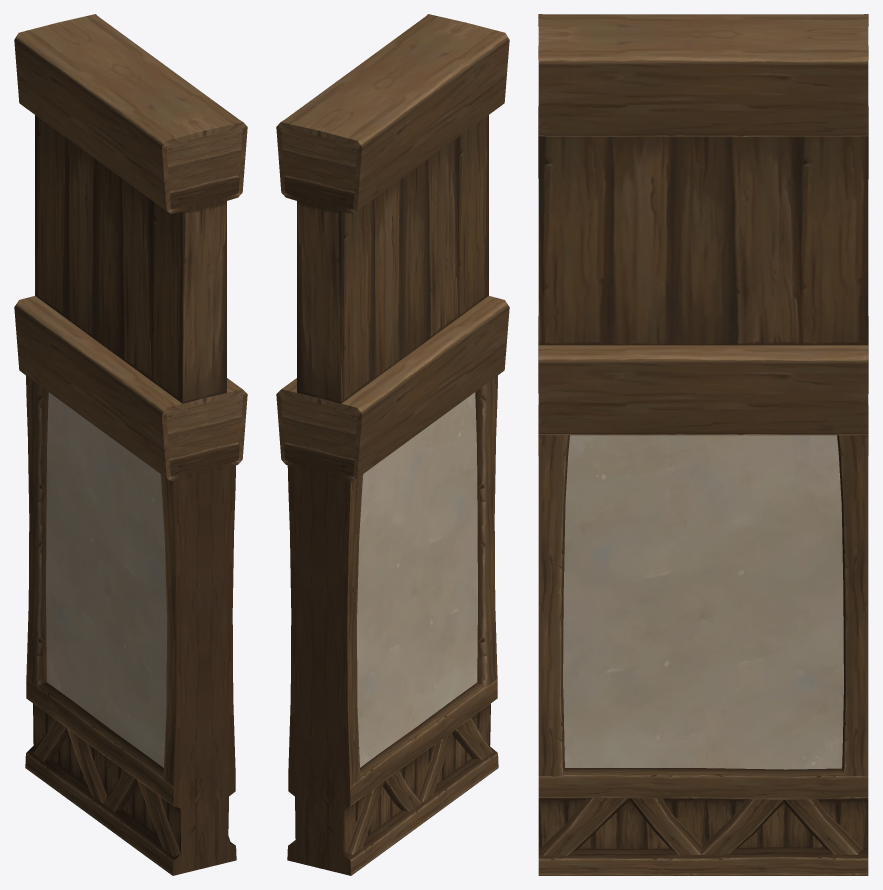
3 views of the same model, side by side, from view 1: azimuth 30°, elevation 25°; view 2: azimuth 150°, elevation 25°; view 3: azimuth 270°, elevation 25° (orthographic). The views are drawn at different scales.
Size of the model in its own units: 1.35 by 11.04 by 4.01.
Materials: 6 (6 with a texture image).
